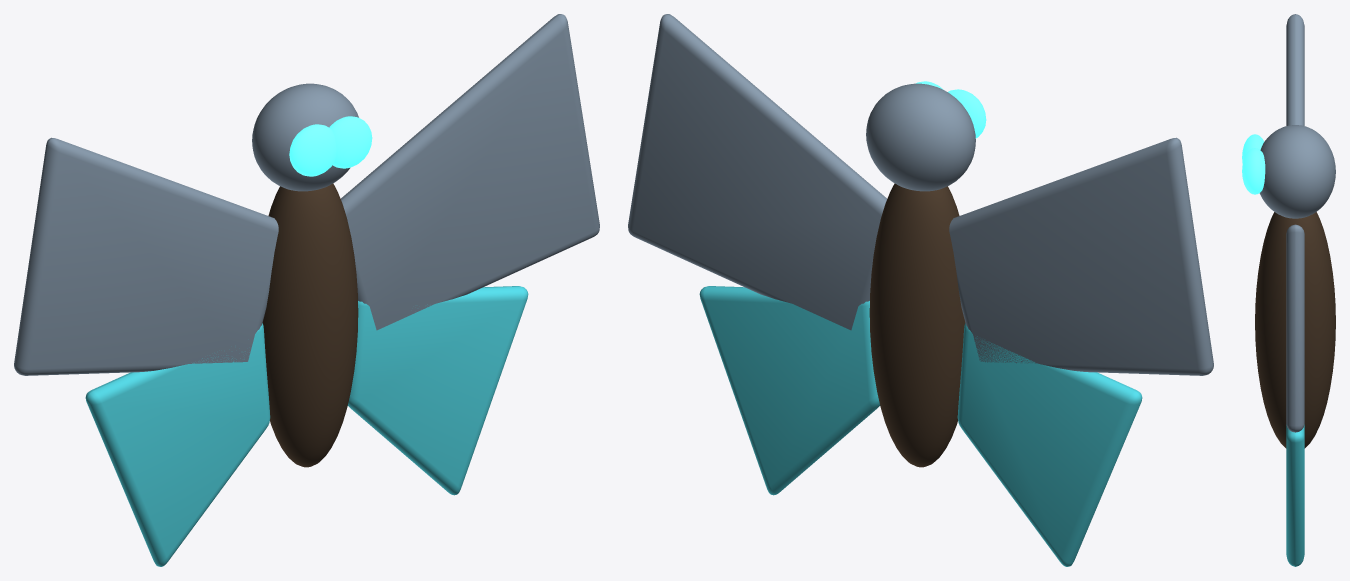
Rendered from crawler_v7.glb.
The picture shows the model from 3 angles, left to right: view 1: azimuth 30°, elevation 25°; view 2: azimuth 150°, elevation 25°; view 3: azimuth 270°, elevation 25°; orthographic projection. The views are drawn at different scales.
Parts seen in each view (by area): view 1: BUTTERFLY_FOREWING_PRIMARY, BUTTERFLY_FOREWING_PRIMARY.001, BUTTERFLY_HINDWING_ACCENT, BUTTERFLY_HINDWING_ACCENT.001, BUTTERFLY_BODY_SECONDARY, BUTTERFLY_HEAD_PRIMARY, EYE_EMISSIVE, EYE_EMISSIVE.001; view 2: BUTTERFLY_FOREWING_PRIMARY, BUTTERFLY_FOREWING_PRIMARY.001, BUTTERFLY_HINDWING_ACCENT, BUTTERFLY_HINDWING_ACCENT.001, BUTTERFLY_BODY_SECONDARY, BUTTERFLY_HEAD_PRIMARY, EYE_EMISSIVE; view 3: BUTTERFLY_BODY_SECONDARY, BUTTERFLY_HEAD_PRIMARY, BUTTERFLY_FOREWING_PRIMARY.001, BUTTERFLY_HINDWING_ACCENT.001, BUTTERFLY_FOREWING_PRIMARY, EYE_EMISSIVE.001, EYE_EMISSIVE.
Part boxes in pixels (x1,y1,x2,y2): BUTTERFLY_FOREWING_PRIMARY: (14, 137, 278, 375); BUTTERFLY_FOREWING_PRIMARY.001: (341, 14, 599, 330); BUTTERFLY_HINDWING_ACCENT: (85, 323, 270, 566); BUTTERFLY_HINDWING_ACCENT.001: (347, 286, 528, 495); BUTTERFLY_BODY_SECONDARY: (262, 183, 358, 467); BUTTERFLY_HEAD_PRIMARY: (252, 83, 358, 191); EYE_EMISSIVE: (289, 124, 336, 176); EYE_EMISSIVE.001: (329, 116, 372, 168); BUTTERFLY_FOREWING_PRIMARY: (949, 137, 1213, 375); BUTTERFLY_FOREWING_PRIMARY.001: (628, 14, 886, 330); BUTTERFLY_HINDWING_ACCENT: (957, 323, 1142, 566); BUTTERFLY_HINDWING_ACCENT.001: (699, 286, 880, 495); BUTTERFLY_BODY_SECONDARY: (869, 183, 965, 467); BUTTERFLY_HEAD_PRIMARY: (866, 83, 975, 191); EYE_EMISSIVE: (948, 89, 986, 138); BUTTERFLY_BODY_SECONDARY: (1255, 212, 1335, 448); BUTTERFLY_HEAD_PRIMARY: (1259, 125, 1335, 218); BUTTERFLY_FOREWING_PRIMARY.001: (1286, 224, 1304, 432); BUTTERFLY_HINDWING_ACCENT.001: (1286, 424, 1304, 566); BUTTERFLY_FOREWING_PRIMARY: (1286, 14, 1304, 125); EYE_EMISSIVE.001: (1242, 148, 1265, 194); EYE_EMISSIVE: (1242, 134, 1264, 163).
Size of the model in its own units: 2.2 by 1.64 by 0.362.
